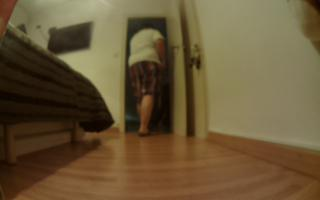person: (124, 21, 169, 141)
